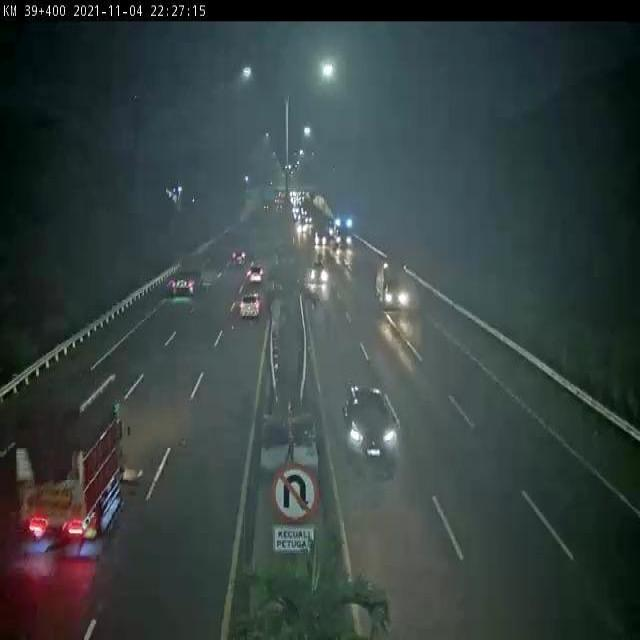car: (344, 387, 396, 465), (237, 296, 260, 320), (309, 261, 328, 284), (247, 264, 263, 287), (226, 249, 245, 267)
truck-m-: (18, 366, 126, 538), (376, 258, 410, 310), (167, 250, 199, 298)
